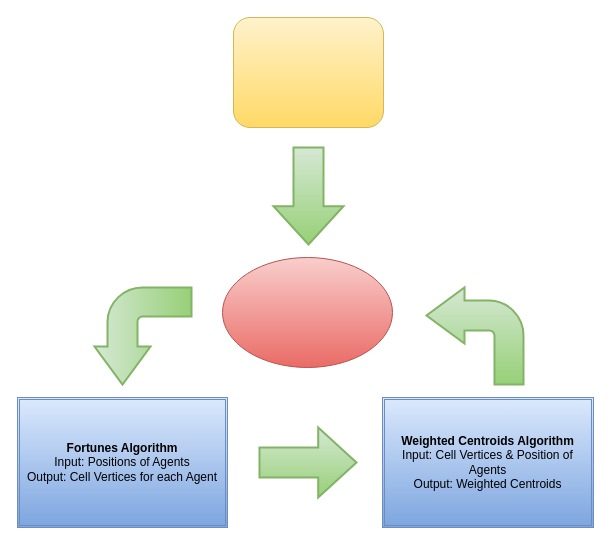
Some shapes in this 611 by 545 pixel diagram are drawn without their labels. The centre of each missing label's shape, as x and y in pixels:
"Move Agent's Positions Toward Weighted Cetroid" goes at pixel 307 312.
"Set Initial Positions of Agents" goes at pixel 308 72.
